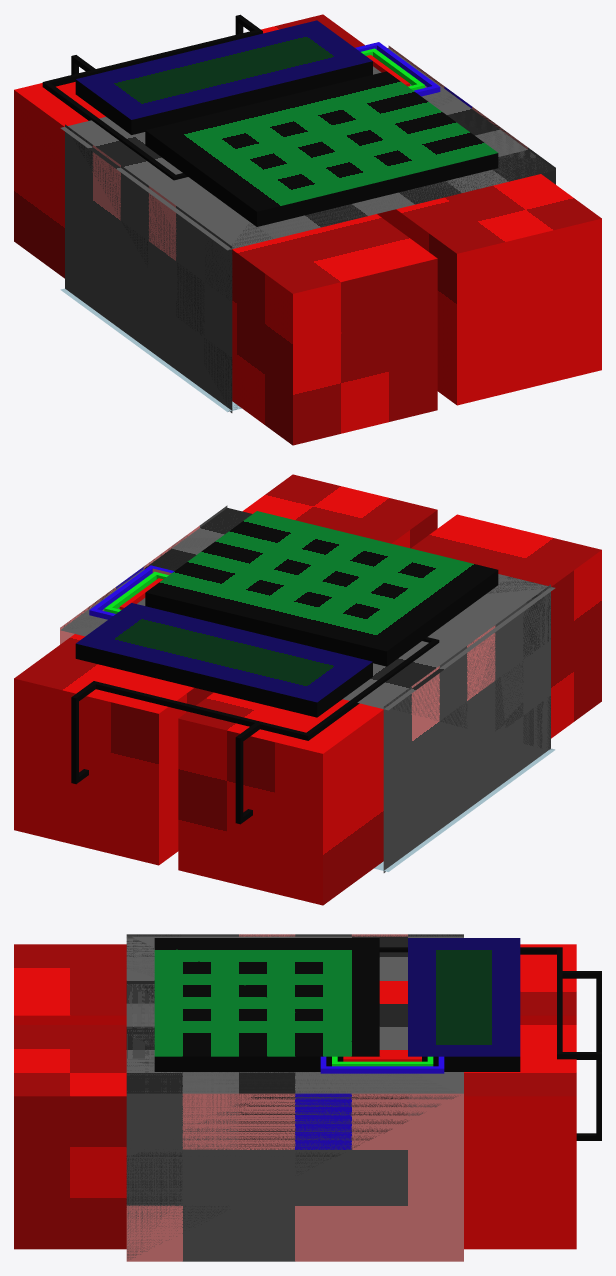
The model's file is bomb.gltf.
3 renders of one model, top to bottom at view 1: azimuth 30°, elevation 25°; view 2: azimuth 150°, elevation 25°; view 3: azimuth 270°, elevation 25°, orthographic.
Visible parts, largest first — view 1: mesh (×6); view 2: mesh (×6); view 3: mesh (×6).
Boxes of the visible parts, left/top/right/bottom form: mesh (×6): left=14, top=14, right=601, bottom=445; mesh (×6): left=14, top=474, right=601, bottom=905; mesh (×6): left=14, top=934, right=601, bottom=1261.
Bounding box in the file's own units: 0.425 × 0.225 × 0.6531.
Materials: 6 (6 with a texture image).
